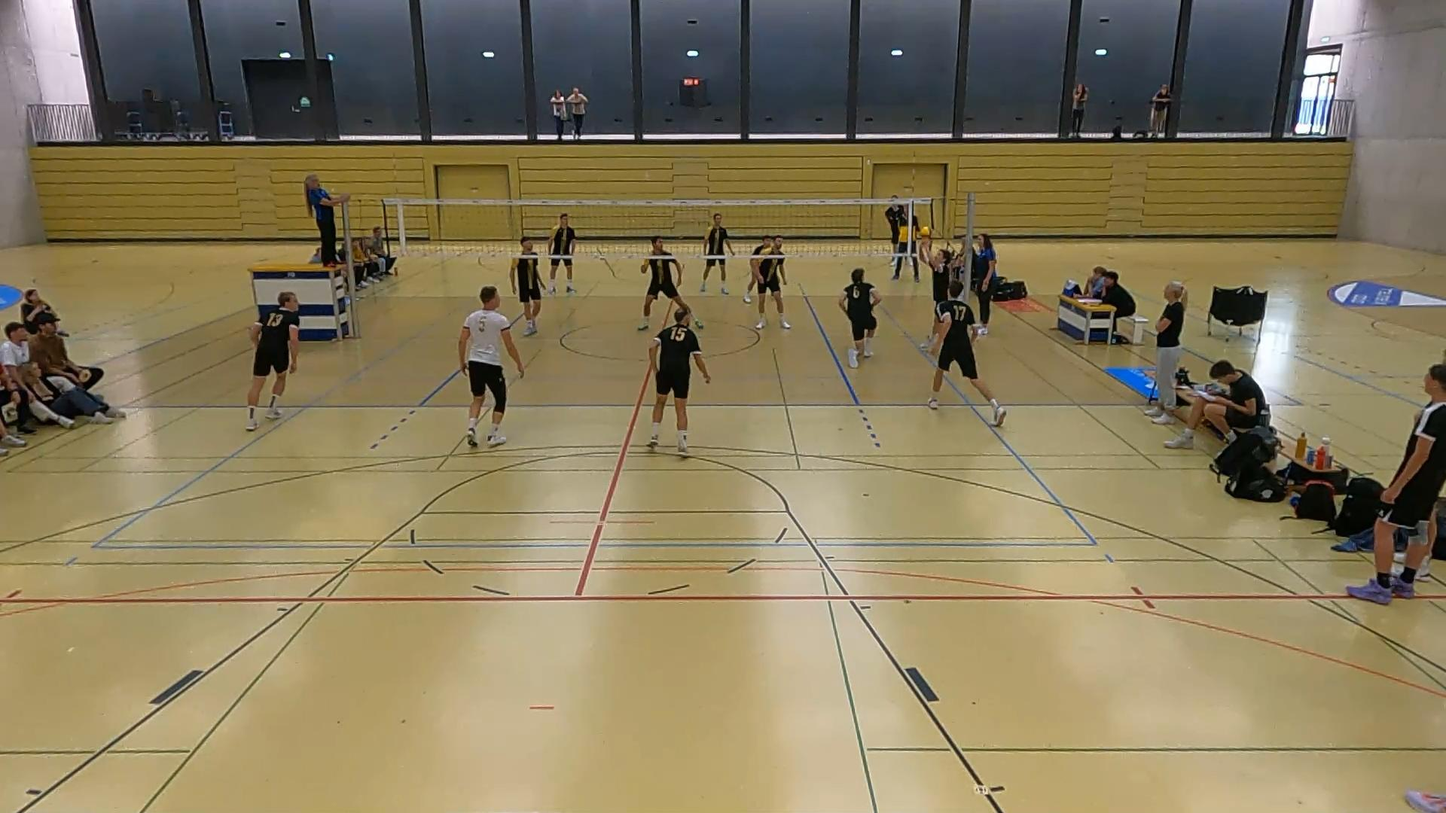Player: (928, 280, 1006, 426), (458, 285, 523, 446), (648, 307, 710, 456), (246, 291, 299, 431), (638, 236, 690, 330), (838, 269, 881, 367), (755, 236, 790, 329), (511, 236, 542, 336), (700, 213, 734, 295), (548, 213, 575, 293), (743, 234, 773, 303)
Set: (911, 233, 960, 350)
ball: (911, 225, 934, 245)
